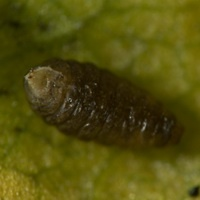insect: (24, 59, 182, 147)
